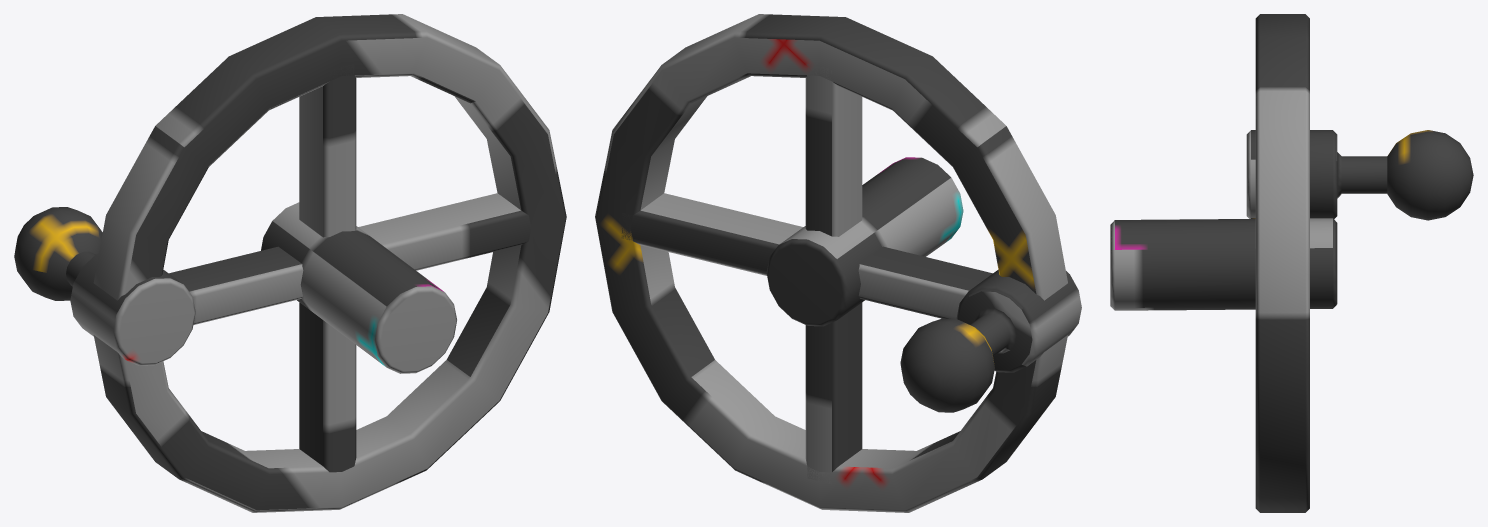
File: CannonWheel.glb
3 views of the same model, side by side, from view 1: azimuth 30°, elevation 25°; view 2: azimuth 150°, elevation 25°; view 3: azimuth 270°, elevation 25° (orthographic). The views are drawn at different scales.
Visible parts, largest first — view 1: CannonWheel; view 2: CannonWheel; view 3: CannonWheel.
Boxes of the visible parts, left/top/right/bottom form: CannonWheel: left=14, top=14, right=566, bottom=512; CannonWheel: left=595, top=14, right=1081, bottom=512; CannonWheel: left=1110, top=14, right=1473, bottom=512.
Size of the model in its own units: 0.555 by 0.55 by 0.4.
Materials: 1 (1 with a texture image).
